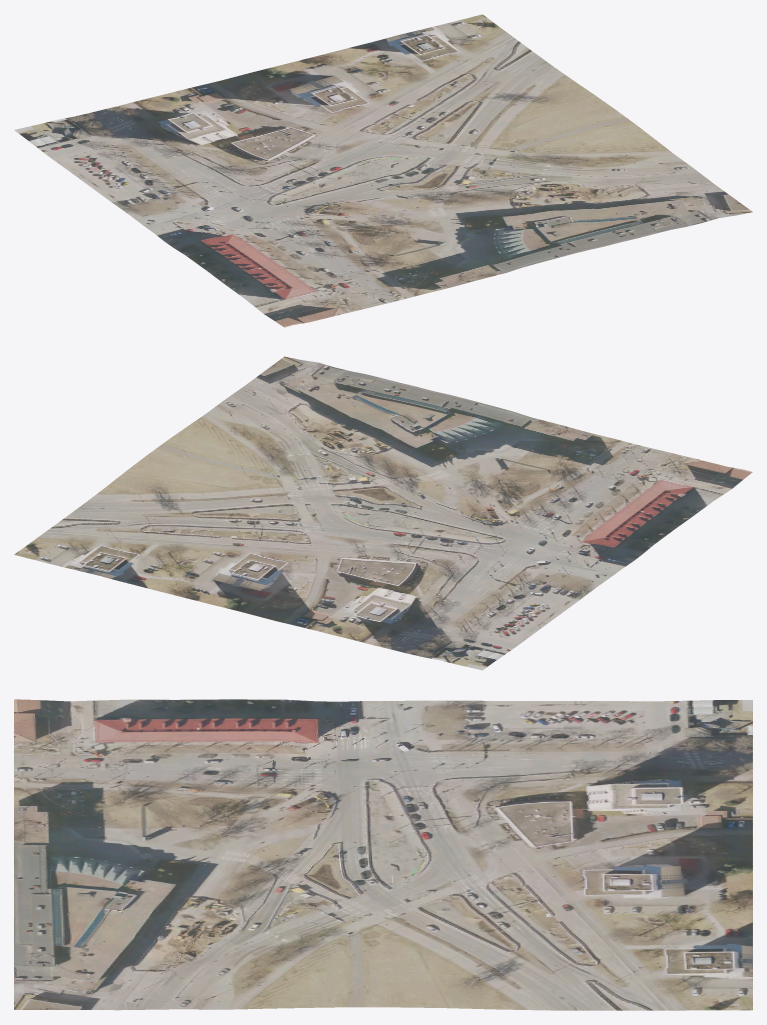
The model's file is CM_Terrain_24488615_6821022.fbx.
3 views of the same model, one above another, from view 1: azimuth 30°, elevation 25°; view 2: azimuth 150°, elevation 25°; view 3: azimuth 270°, elevation 25° (orthographic). The views are drawn at different scales.
Parts seen in each view (by area): view 1: CM_Terrain_24488615_6821022_LOD0; view 2: CM_Terrain_24488615_6821022_LOD0; view 3: CM_Terrain_24488615_6821022_LOD0.
Part boxes in pixels (<box>): CM_Terrain_24488615_6821022_LOD0: <box>14,14,752,327</box>; CM_Terrain_24488615_6821022_LOD0: <box>14,356,752,670</box>; CM_Terrain_24488615_6821022_LOD0: <box>14,699,752,1010</box>.
Size of what is drawn, in the model's own units: 205 by 3.93 by 205.
